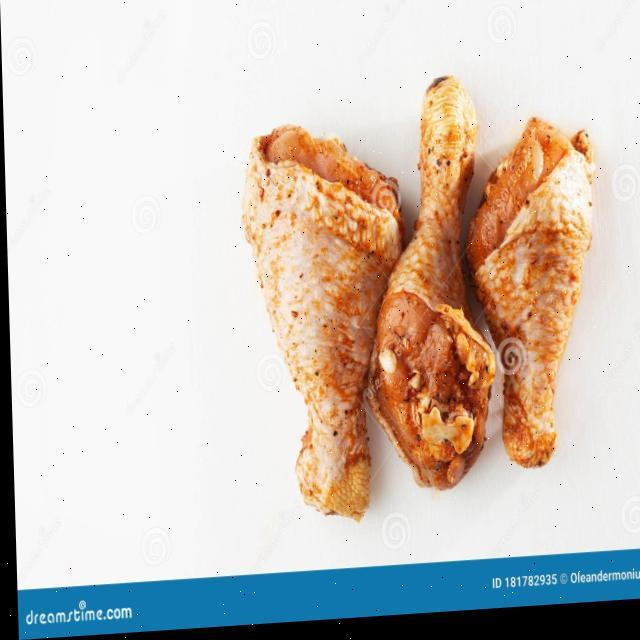leg: (238, 121, 398, 528), (370, 70, 493, 507), (468, 116, 600, 477)
